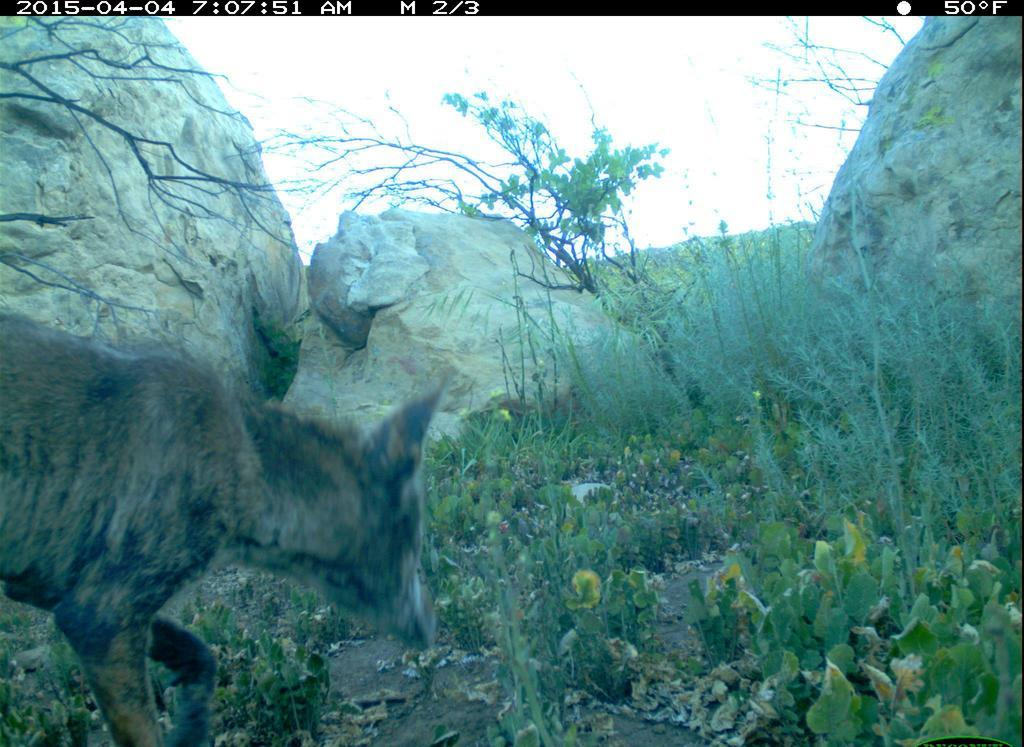coyote: (2, 313, 478, 747)
